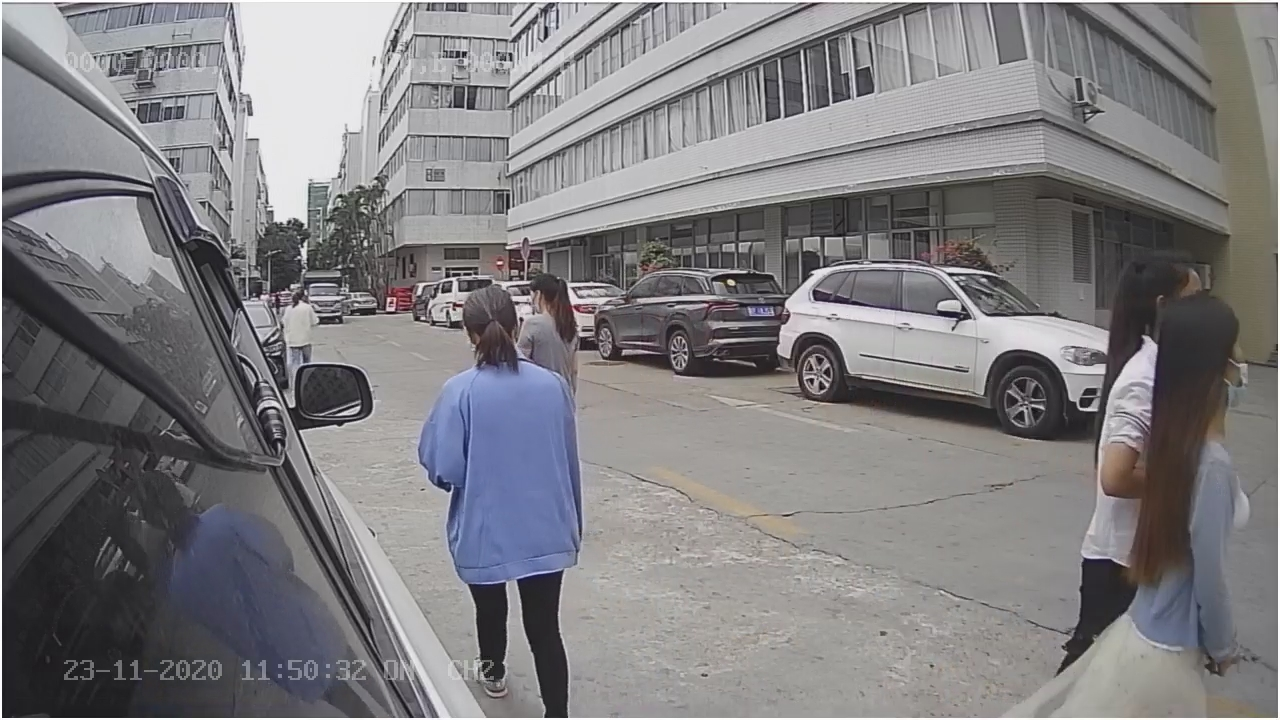person: (415, 277, 591, 521)
